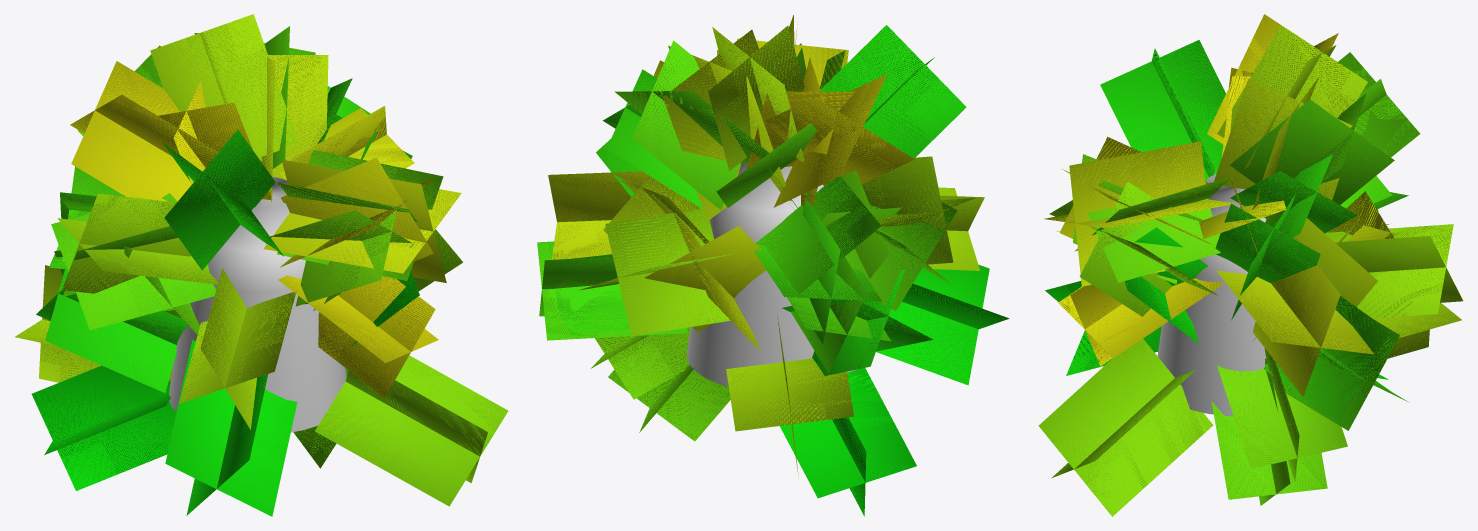
Rendered from Type_6_Tree_4.fbx.
The picture shows the model from 3 angles, left to right: view 1: azimuth 30°, elevation 25°; view 2: azimuth 150°, elevation 25°; view 3: azimuth 270°, elevation 25°; orthographic projection. The views are drawn at different scales.
Visible parts, largest first — view 1: Leaf, Trunk; view 2: Leaf, Trunk; view 3: Leaf, Trunk.
Part boxes in pixels (x1,y1,x2,y2): Leaf: (15,14,508,516); Trunk: (169,177,346,432); Leaf: (537,15,1009,516); Trunk: (686,163,857,386); Leaf: (1038,14,1462,516); Trunk: (1157,173,1266,416).
Size of the model in its own units: 1804 by 2020 by 1801.
